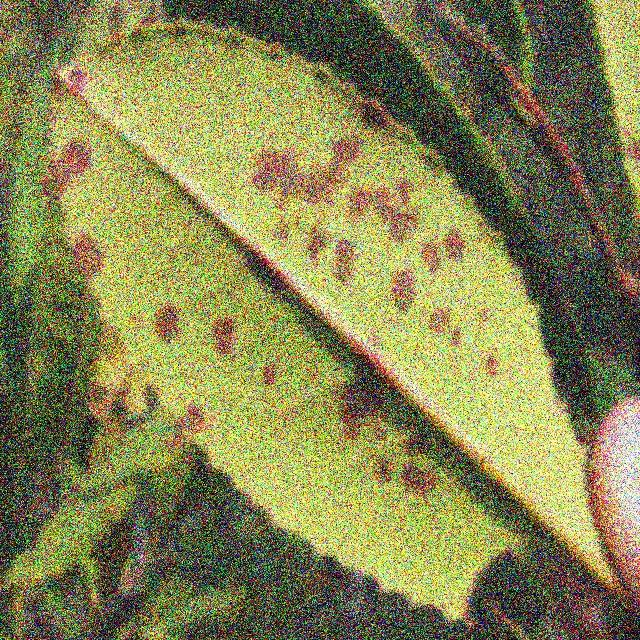shot_hole: (0, 41, 587, 600)
